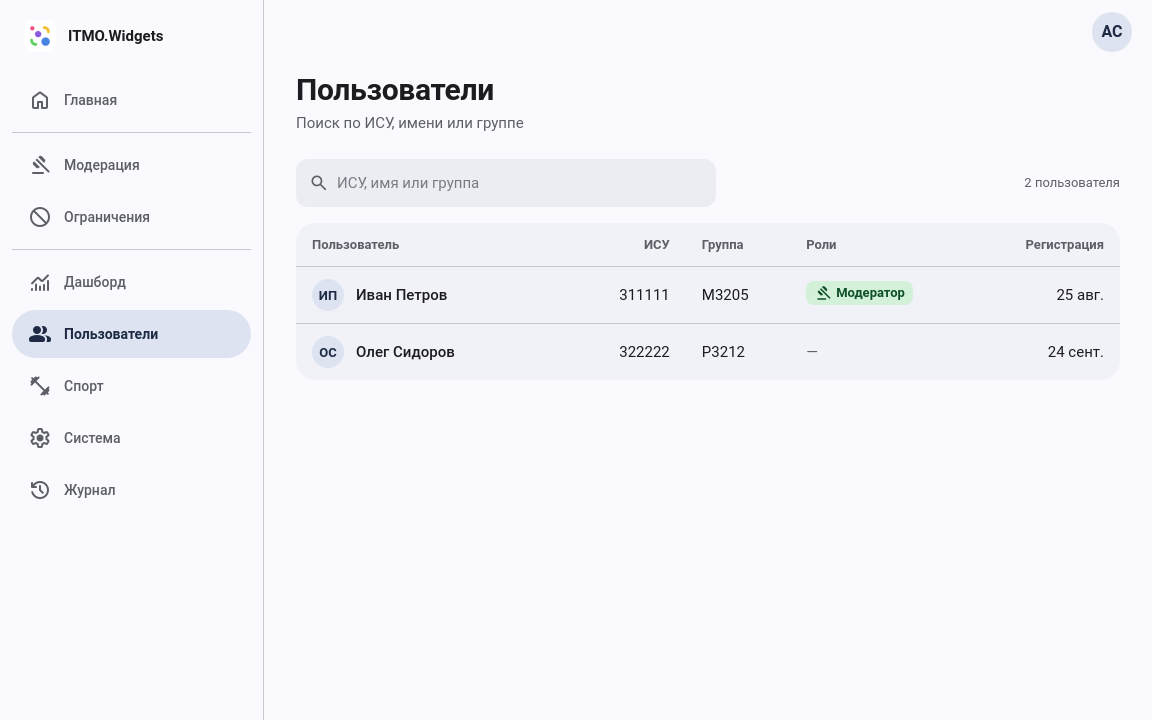
Test: UsersPage › searches once the typing stops
The width and height of the screenshot is (1152, 720).
Expected: the row "ОС Олег Сидоров 322222 P3212 — 24 сент." is shown, x1=296 y1=324 x2=1120 y2=380
Type "P32" into the field named "Поиск" at (522, 182), box x1=329 y1=160 x2=715 y2=206
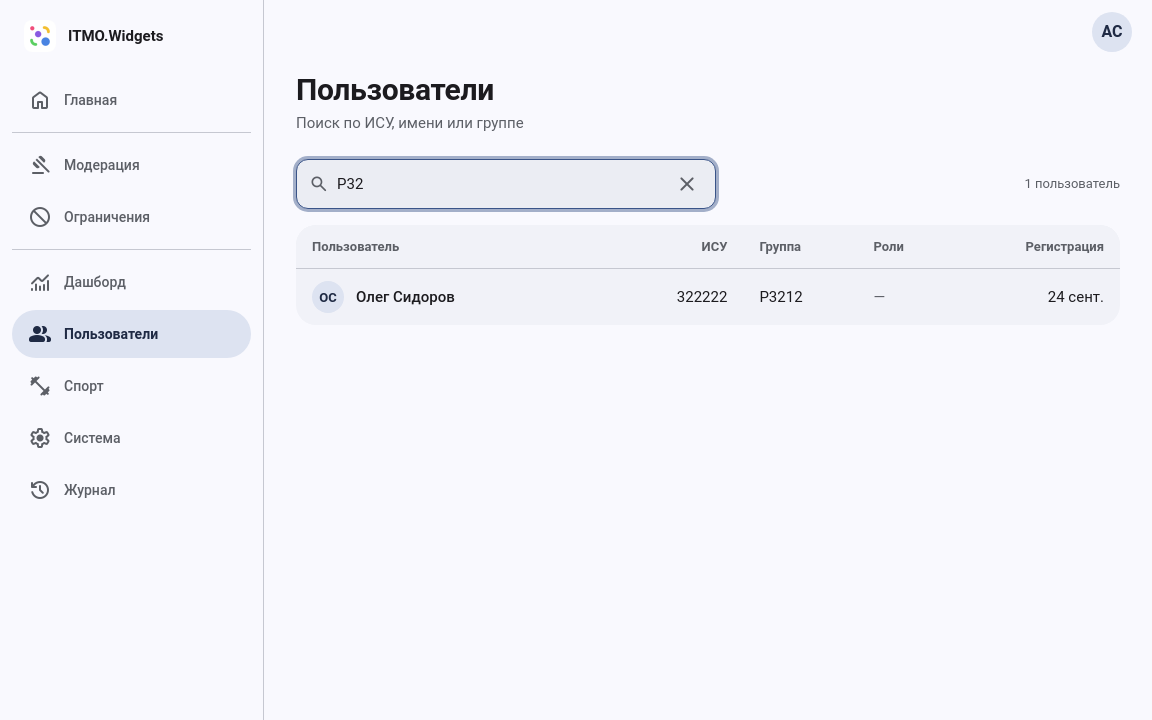
Expected: the row "ОС Олег Сидоров 322222 P3212 — 24 сент." is shown, x1=296 y1=269 x2=1120 y2=325
Now the text "Иван Петров" is gone
